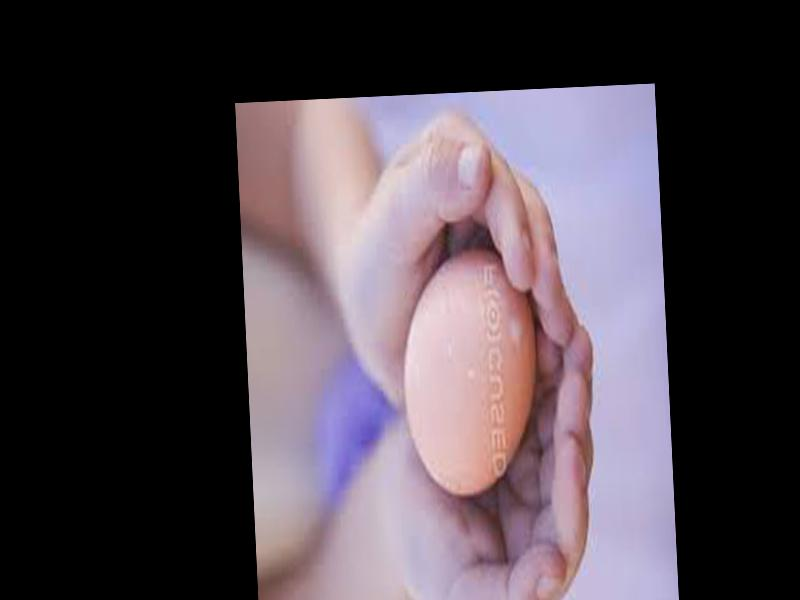Eggs: (397, 248, 542, 502)
